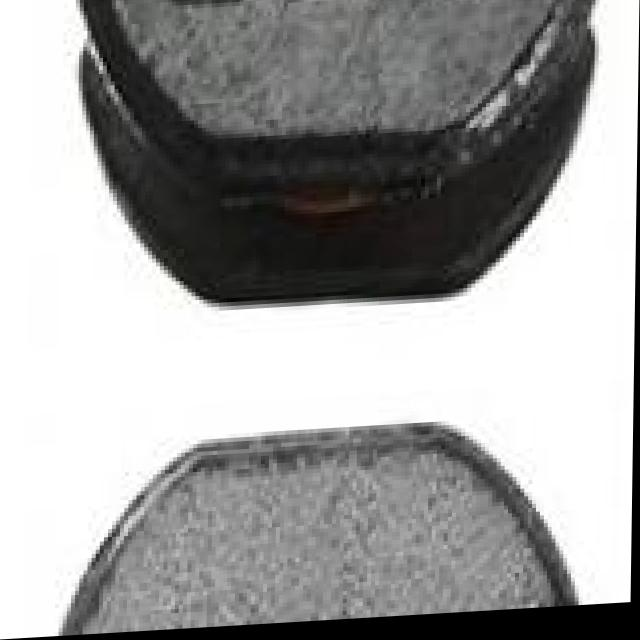inductor: (76, 0, 608, 308), (21, 395, 607, 639)
